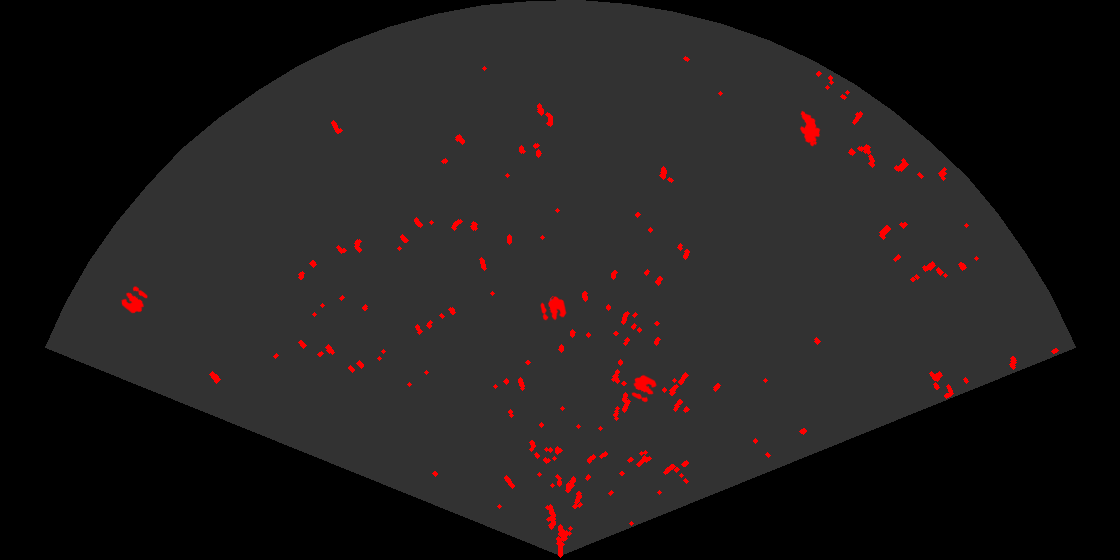AUV: (798, 109, 822, 148)
ball: (119, 285, 149, 315), (630, 373, 659, 404), (539, 295, 568, 322)
